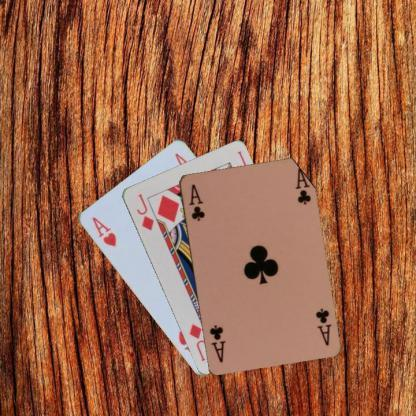Ac: (312, 305, 332, 347), (186, 182, 206, 223)
Ah: (89, 214, 118, 248)
Jd: (133, 190, 155, 232)
